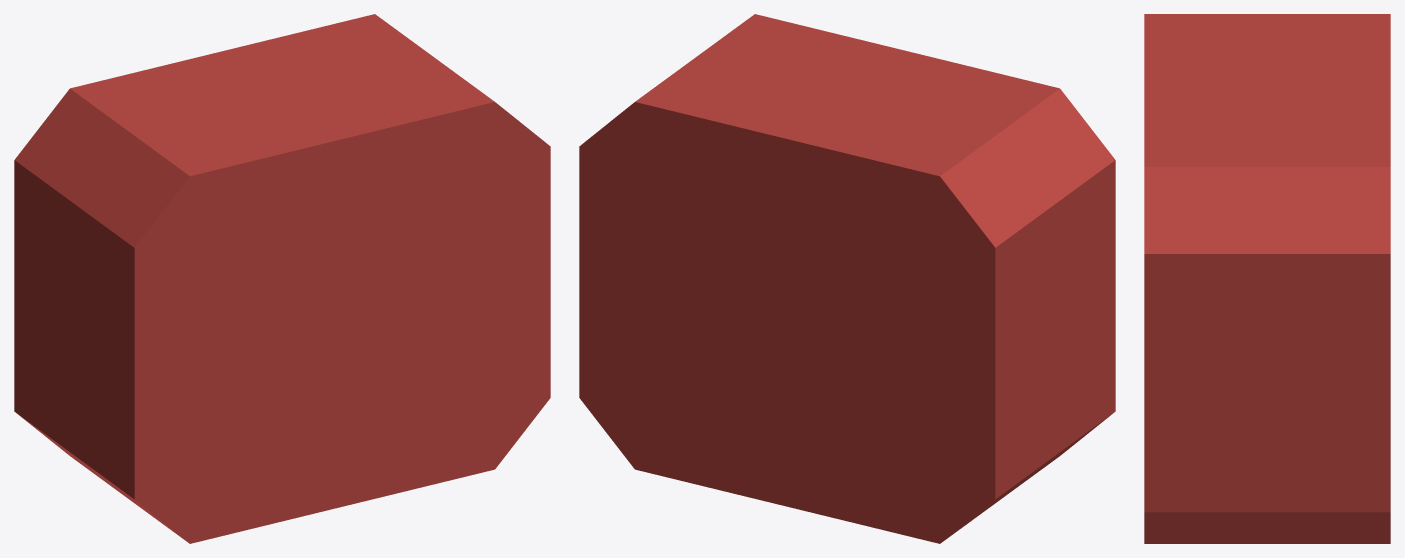
The model's file is twin_piston_lod2.glb.
3 views of the same model, side by side, from view 1: azimuth 30°, elevation 25°; view 2: azimuth 150°, elevation 25°; view 3: azimuth 270°, elevation 25° (orthographic). The views are drawn at different scales.
Visible parts, largest first — view 1: twin_piston_lod2; view 2: twin_piston_lod2; view 3: twin_piston_lod2.
Part boxes in pixels (x1=…): twin_piston_lod2: x1=14, y1=14, x2=550, y2=543; twin_piston_lod2: x1=579, y1=14, x2=1115, y2=543; twin_piston_lod2: x1=1144, y1=14, x2=1390, y2=543.
Bounding box in the file's own units: 0.09 × 0.076 × 0.045.
